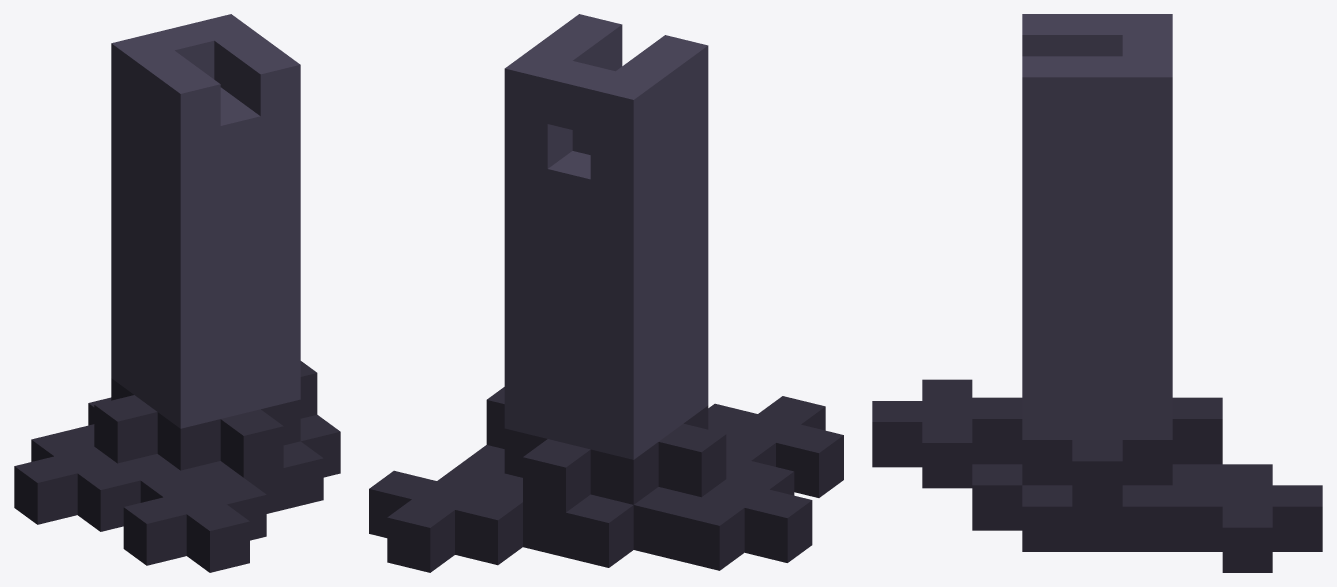
Rendered from broken-pillar.glb.
3 renders of one model, left to right at view 1: azimuth 30°, elevation 25°; view 2: azimuth 150°, elevation 25°; view 3: azimuth 270°, elevation 25°, orthographic. The views are drawn at different scales.
Parts seen in each view (by area): view 1: broken_pillar; view 2: broken_pillar; view 3: broken_pillar.
Boxes of the visible parts, box(x1,y1,x2,y2) form: broken_pillar: box(14, 14, 340, 572); broken_pillar: box(369, 14, 843, 572); broken_pillar: box(872, 14, 1322, 572).
Bounding box in the file's own units: 0.8 × 1 × 0.9.
